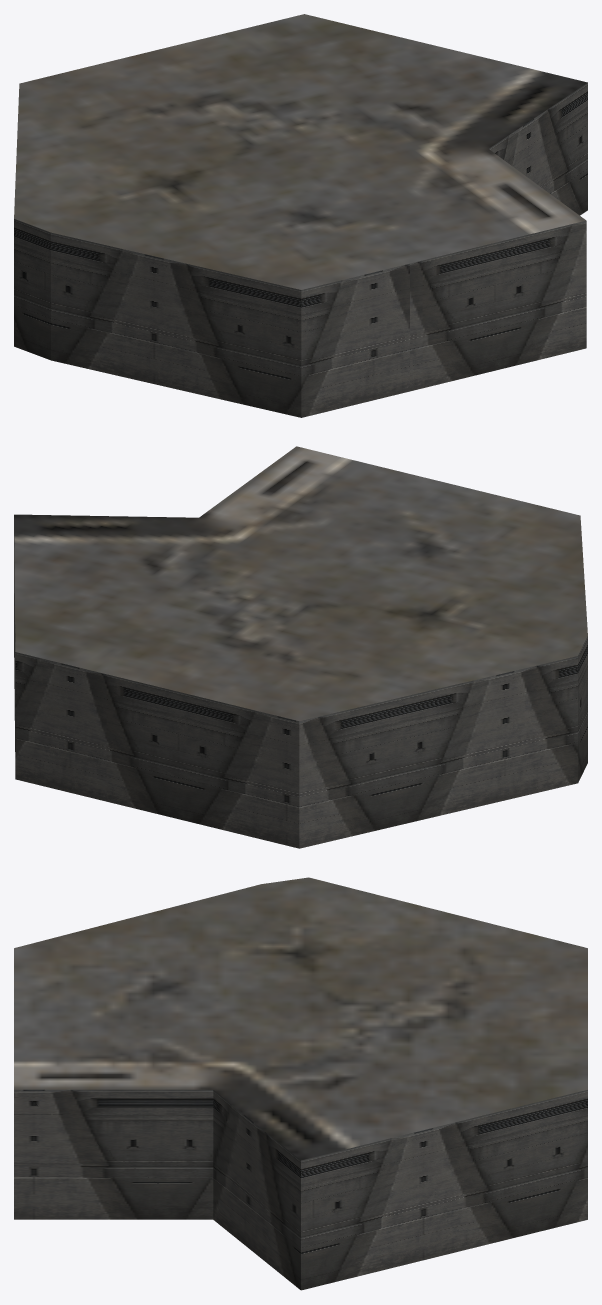
Rendered from fortress_light_59.glb.
3 renders of one model, top to bottom at view 1: azimuth 30°, elevation 25°; view 2: azimuth 150°, elevation 25°; view 3: azimuth 270°, elevation 25°, orthographic. The views are drawn at different scales.
Visible parts, largest first — view 1: buildings/saxarba/fortress_light/fortress_light_59; view 2: buildings/saxarba/fortress_light/fortress_light_59; view 3: buildings/saxarba/fortress_light/fortress_light_59.
Part boxes in pixels (x1,y1,x2,y2): buildings/saxarba/fortress_light/fortress_light_59: (14,14,587,417); buildings/saxarba/fortress_light/fortress_light_59: (14,446,587,848); buildings/saxarba/fortress_light/fortress_light_59: (14,877,587,1290).
Size of the model in its own units: 84 by 18 by 72.
